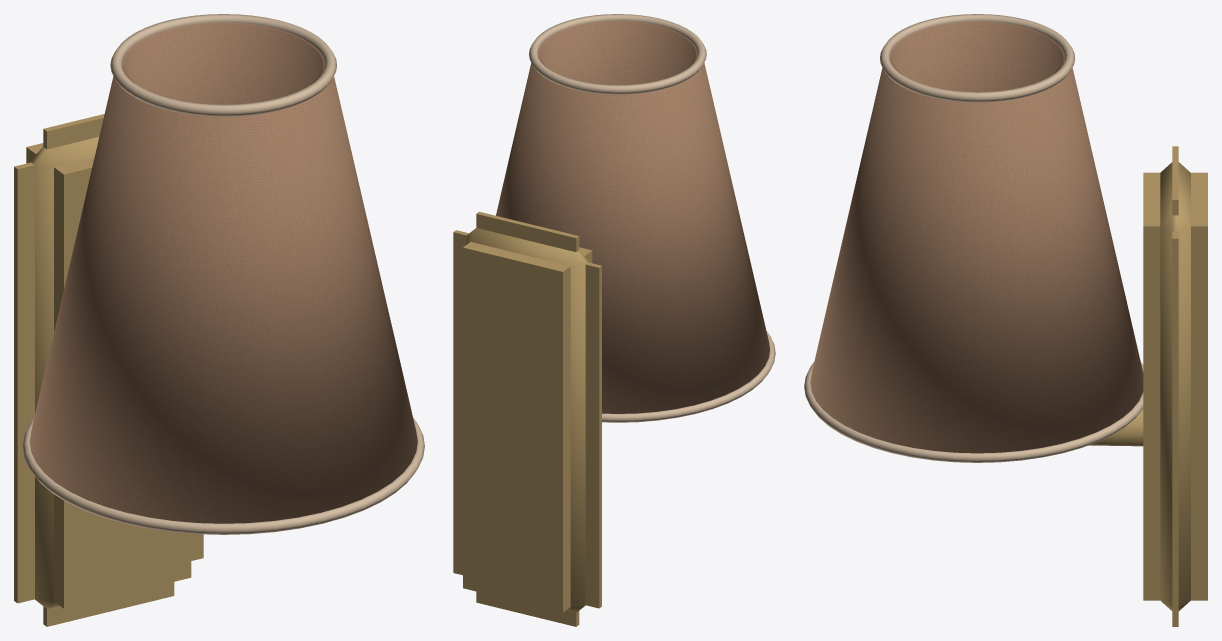
The model's file is traditional.wall_light.gltf.
3 renders of one model, left to right at view 1: azimuth 30°, elevation 25°; view 2: azimuth 150°, elevation 25°; view 3: azimuth 270°, elevation 25°, orthographic. The views are drawn at different scales.
Visible parts, largest first — view 1: traditional.wall_light.wall-plate; view 2: traditional.wall_light.wall-plate; view 3: traditional.wall_light.wall-plate.
Part boxes in pixels (x1,y1,x2,y2): traditional.wall_light.wall-plate: [14, 14, 424, 626]; traditional.wall_light.wall-plate: [453, 14, 775, 626]; traditional.wall_light.wall-plate: [804, 14, 1207, 626].
Bounding box in the file's own units: 0.134 × 0.2327 × 0.156.
4 materials, 1 textured.
